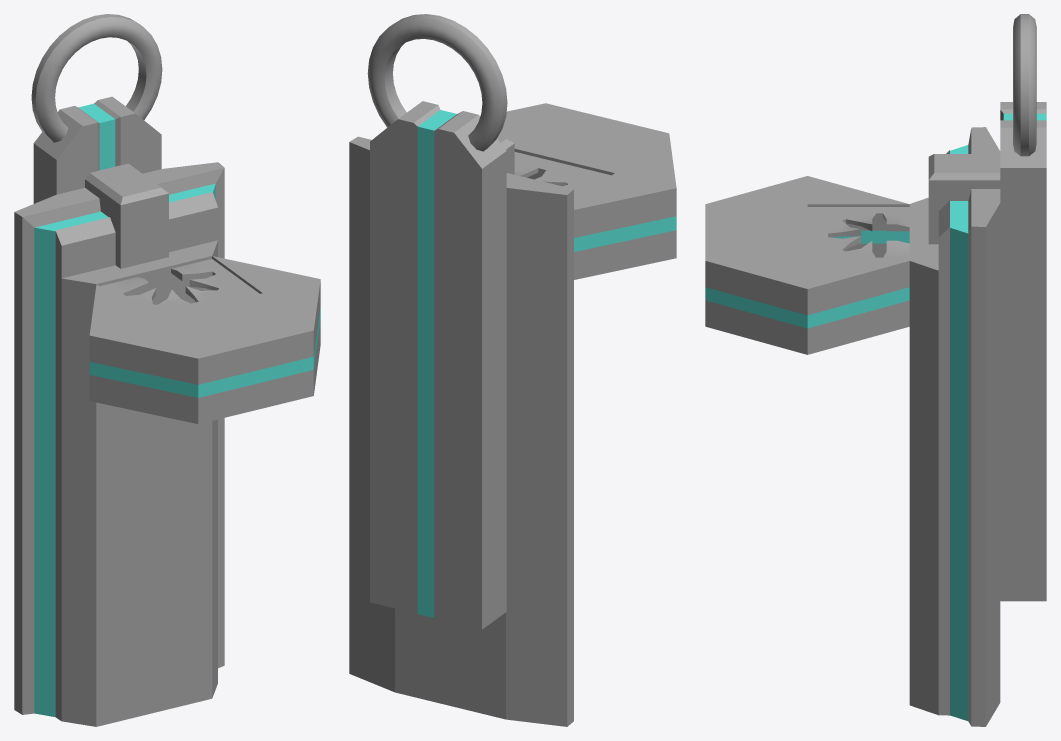
The model's file is Room_3_1_Center.fbx.
The picture shows the model from 3 angles, left to right: view 1: azimuth 30°, elevation 25°; view 2: azimuth 150°, elevation 25°; view 3: azimuth 270°, elevation 25°; orthographic projection. The views are drawn at different scales.
Parts seen in each view (by area): view 1: PillarElement1, MiddlePlatform, PillarElement2, PillarElement3, PillarElement4, ElevatorPlatform2; view 2: PillarElement2, PillarElement1, MiddlePlatform, PillarElement3, ElevatorPlatform2; view 3: PillarElement1, MiddlePlatform, PillarElement2, ElevatorPlatform2, PillarElement4, PillarElement3.
Part boxes in pixels (left/top/right/bottom): PillarElement1: left=14, top=162, right=224, bottom=726; MiddlePlatform: left=89, top=256, right=320, bottom=424; PillarElement2: left=33, top=96, right=161, bottom=203; PillarElement3: left=31, top=14, right=162, bottom=142; PillarElement4: left=85, top=163, right=168, bottom=268; ElevatorPlatform2: left=100, top=259, right=259, bottom=321; PillarElement2: left=370, top=101, right=506, bottom=629; PillarElement1: left=349, top=136, right=573, bottom=726; MiddlePlatform: left=498, top=103, right=676, bottom=279; PillarElement3: left=367, top=14, right=507, bottom=151; ElevatorPlatform2: left=514, top=152, right=611, bottom=202; PillarElement1: left=909, top=127, right=1000, bottom=726; MiddlePlatform: left=705, top=176, right=909, bottom=354; PillarElement2: left=1000, top=102, right=1046, bottom=601; ElevatorPlatform2: left=807, top=207, right=909, bottom=260; PillarElement4: left=928, top=154, right=1000, bottom=244; PillarElement3: left=1013, top=14, right=1036, bottom=156.
Bounding box in the file's own units: 2950 × 7972 × 3757.
